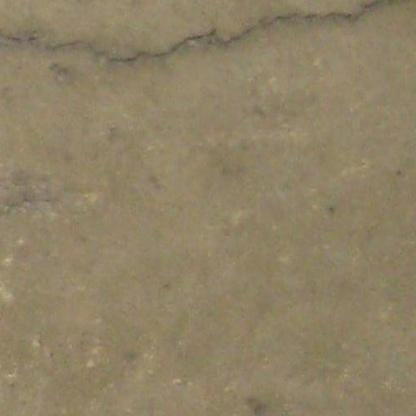Cracks: (44, 0, 416, 68), (0, 27, 42, 48)
